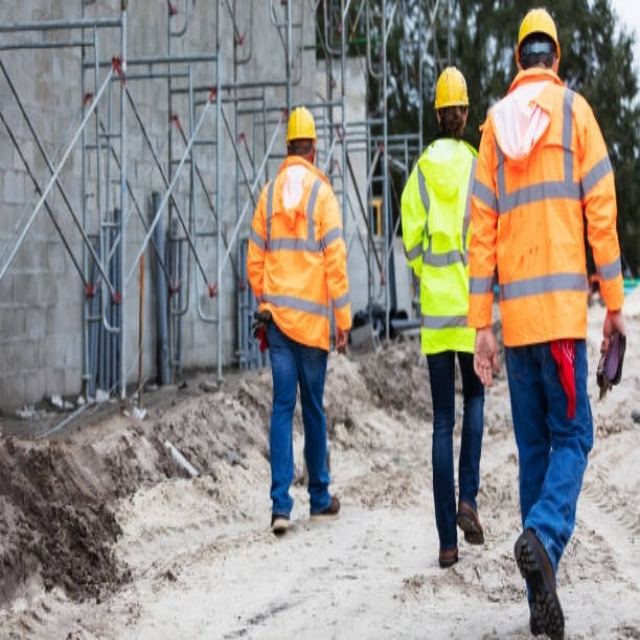Sin_guantes: (473, 328, 498, 385), (603, 304, 627, 346), (335, 324, 348, 352)
